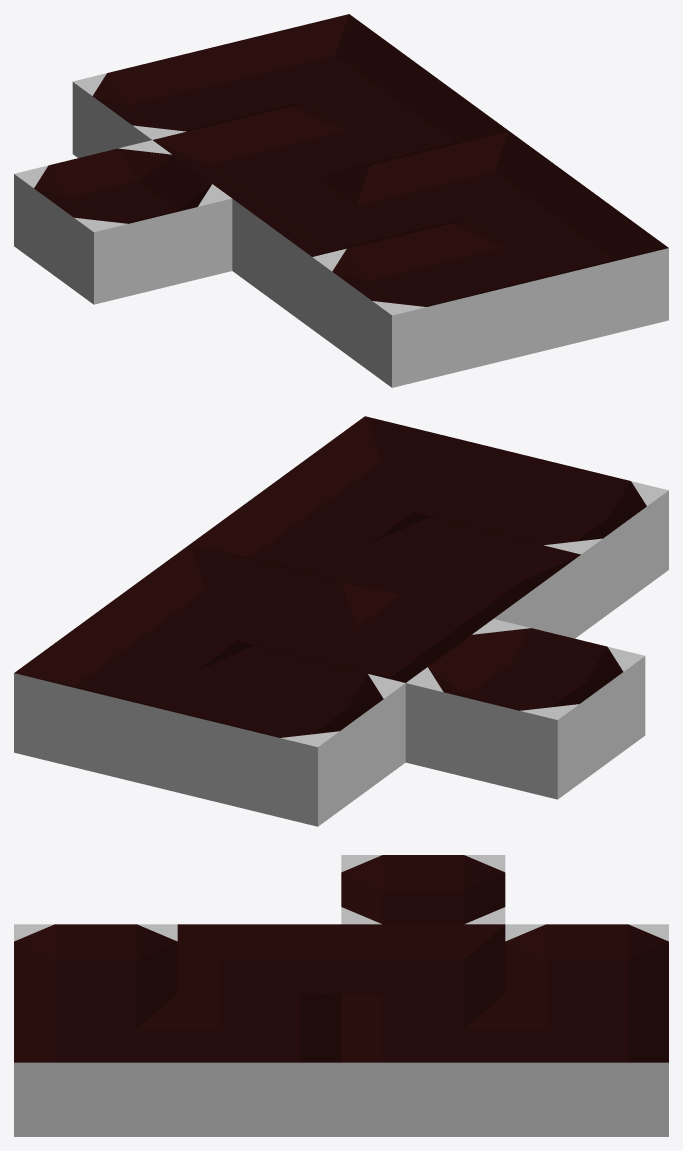
File: 66s_path.obj
The picture shows the model from 3 angles, top to bottom: view 1: azimuth 30°, elevation 25°; view 2: azimuth 150°, elevation 25°; view 3: azimuth 270°, elevation 25°; orthographic projection. The views are drawn at different scales.
Parts seen in each view (by area): view 1: hole.2.2_Cube.282, ending.3.0_ending.561, corner.4.0_corner.1393, corner.4.1_corner.1394, corner.4.3_corner.1396, corner.3.1_corner.1391, ending.3.3_ending.562, corner.3.2_corner.1392, corner.4.2_corner.1395; view 2: hole.2.2_Cube.282, ending.3.3_ending.562, corner.4.3_corner.1396, ending.3.0_ending.561, corner.3.1_corner.1391, corner.4.2_corner.1395, corner.4.0_corner.1393, corner.4.1_corner.1394, corner.3.2_corner.1392; view 3: corner.4.1_corner.1394, corner.4.2_corner.1395, corner.4.0_corner.1393, corner.4.3_corner.1396, corner.3.1_corner.1391, corner.3.2_corner.1392, ending.3.0_ending.561, ending.3.3_ending.562, hole.2.2_Cube.282.
Boxes of the visible parts, x1,y1,x2,y2 form: hole.2.2_Cube.282: [14, 140, 232, 304]; ending.3.0_ending.561: [312, 223, 530, 387]; corner.4.0_corner.1393: [451, 189, 668, 353]; corner.4.1_corner.1394: [371, 131, 588, 232]; corner.4.3_corner.1396: [211, 14, 428, 115]; corner.3.1_corner.1391: [232, 165, 446, 328]; ending.3.3_ending.562: [72, 48, 288, 157]; corner.3.2_corner.1392: [153, 106, 369, 207]; corner.4.2_corner.1395: [291, 72, 508, 167]; hole.2.2_Cube.282: [405, 619, 645, 799]; ending.3.3_ending.562: [166, 646, 405, 826]; corner.4.3_corner.1396: [14, 609, 253, 789]; ending.3.0_ending.561: [432, 453, 668, 633]; corner.3.1_corner.1391: [342, 517, 581, 638]; corner.4.2_corner.1395: [102, 544, 340, 656]; corner.4.0_corner.1393: [277, 416, 516, 527]; corner.4.1_corner.1394: [190, 480, 428, 585]; corner.3.2_corner.1392: [256, 582, 492, 682]; corner.4.1_corner.1394: [177, 993, 341, 1136]; corner.4.2_corner.1395: [341, 994, 505, 1136]; corner.4.0_corner.1393: [14, 993, 177, 1136]; corner.4.3_corner.1396: [505, 993, 668, 1136]; corner.3.1_corner.1391: [177, 924, 341, 1011]; corner.3.2_corner.1392: [341, 924, 505, 1011]; ending.3.0_ending.561: [14, 924, 177, 1011]; ending.3.3_ending.562: [505, 924, 668, 1011]; hole.2.2_Cube.282: [341, 855, 505, 924].
Size of the model in its own units: 6 by 1 by 8.
